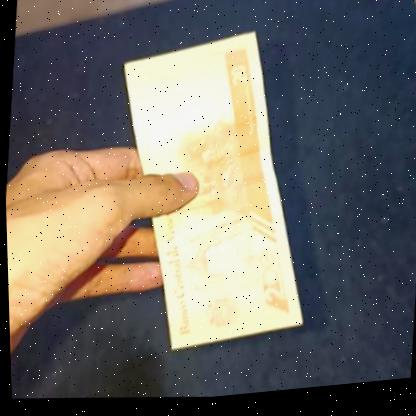twenty-back-vef: (98, 19, 328, 369)
